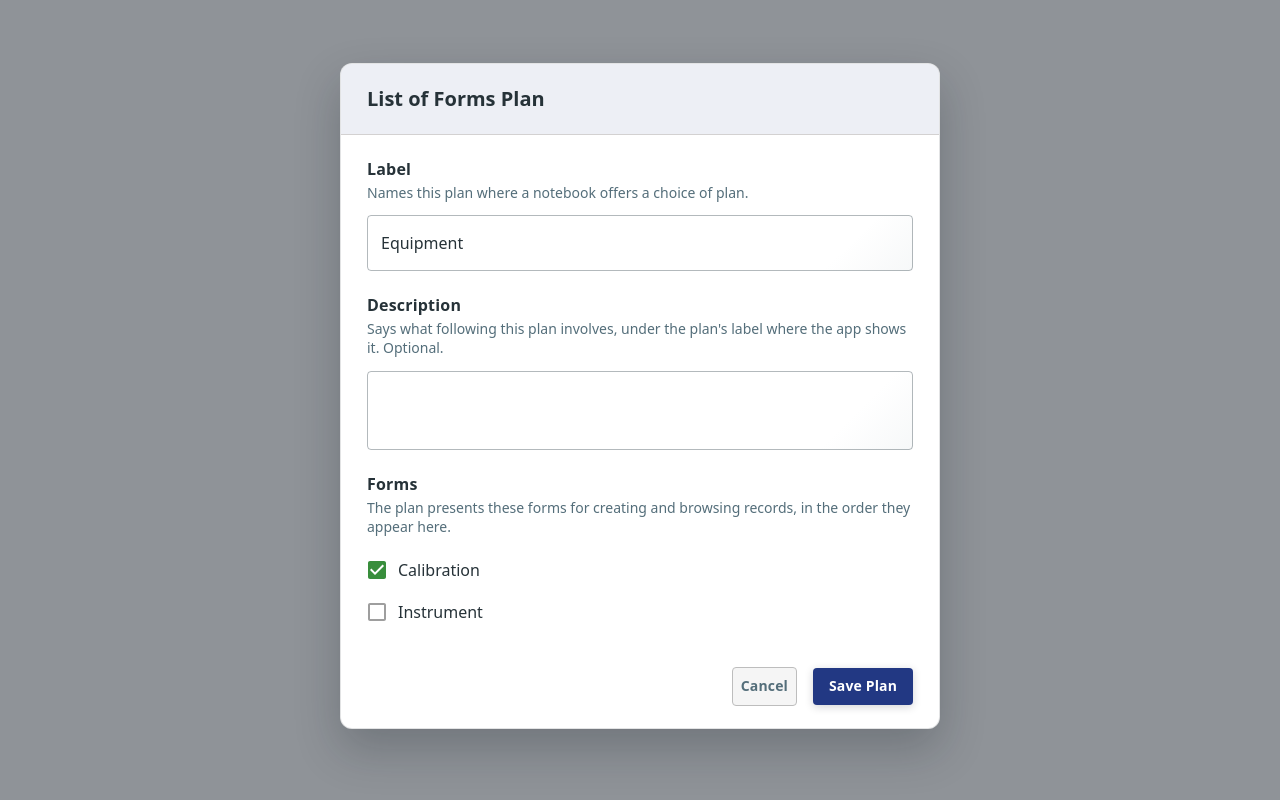
it: ListOfFormsPlanDialog › will not save a plan naming no forms
This screenshot has width=1280, height=800.
Click the checkbox labelled "Calibration".
click(422, 570)  # box [365,558,480,582]
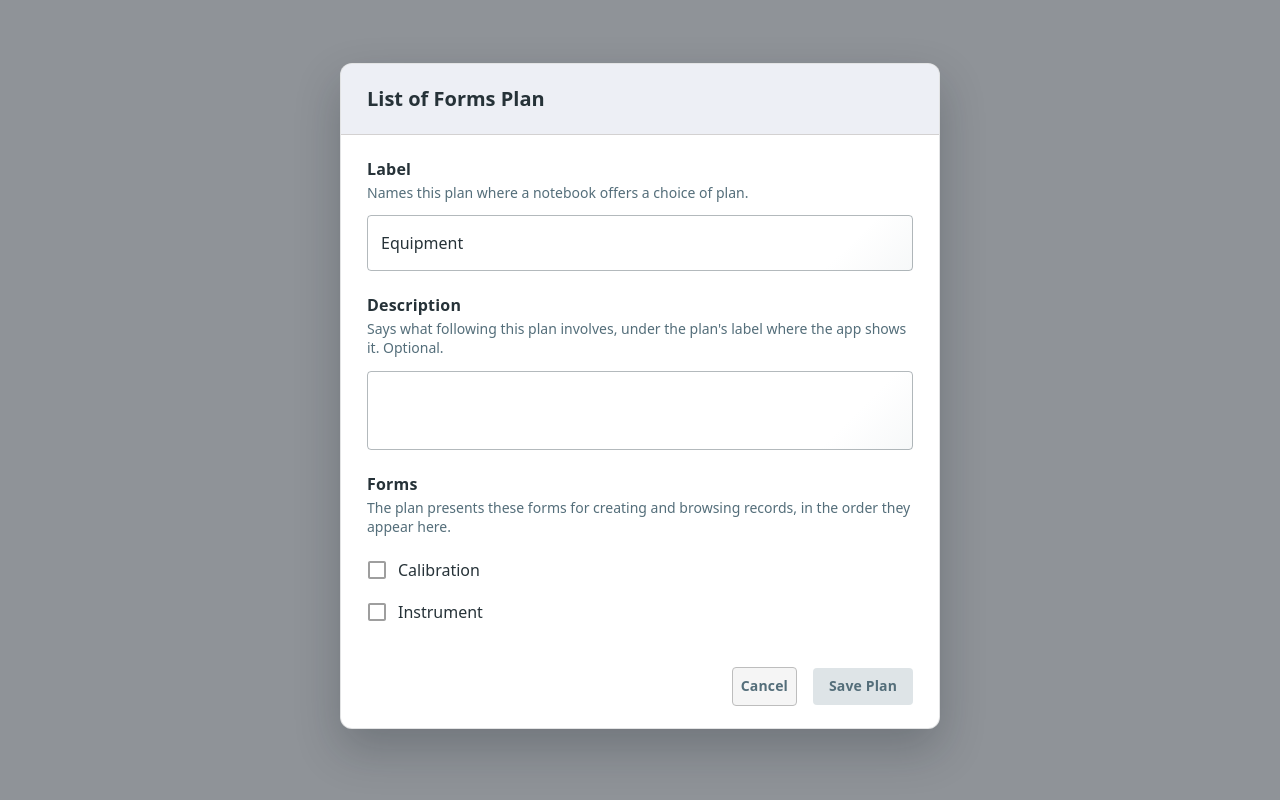
Result: the button "Save Plan" is disabled at [813,668,913,705]
